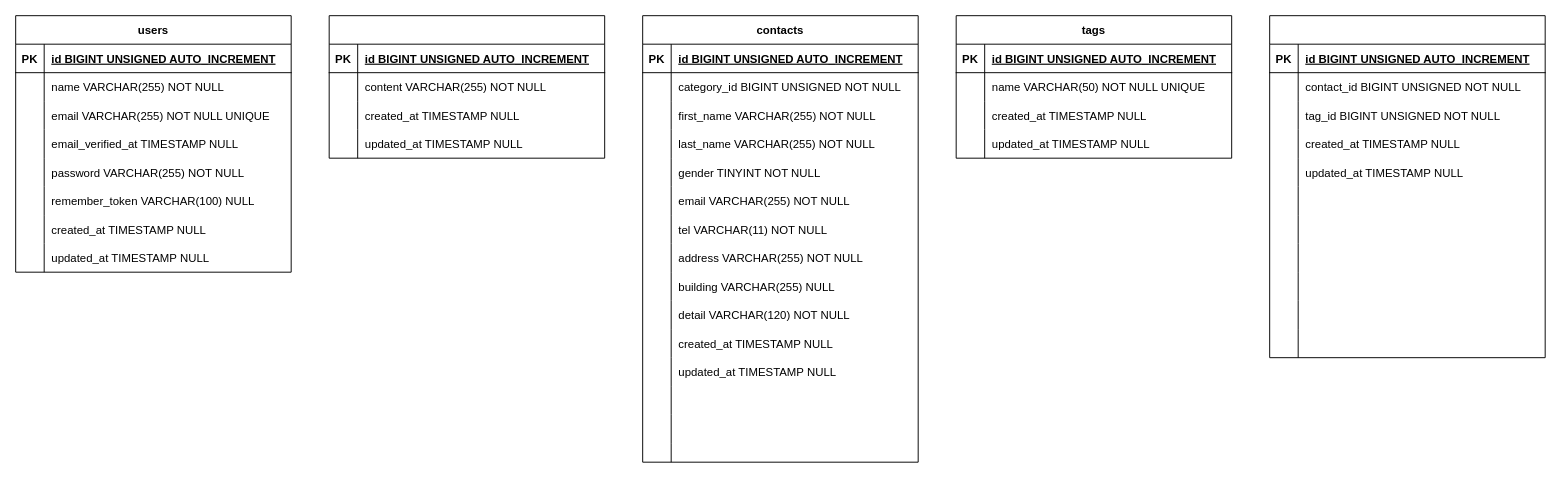
Some shapes in this 1561 by 478 pixel diagram are drawn without their labels. Here are the shapes that lost their labels. From the top down, the box of each, then its label:
(328, 15, 605, 158): categories
(1269, 15, 1545, 358): contact_tag
